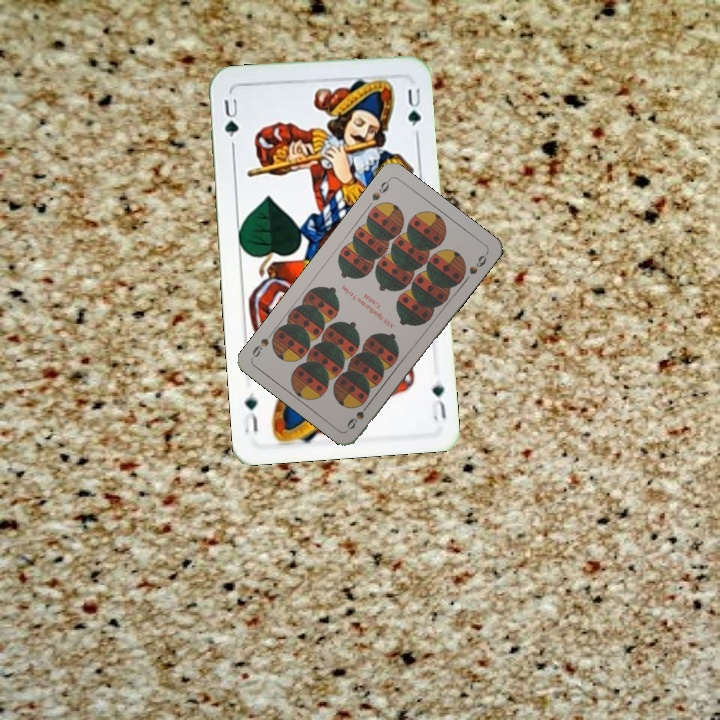GU: (220, 94, 242, 150), (427, 380, 448, 424)
S9: (343, 398, 373, 432), (368, 175, 393, 203)
